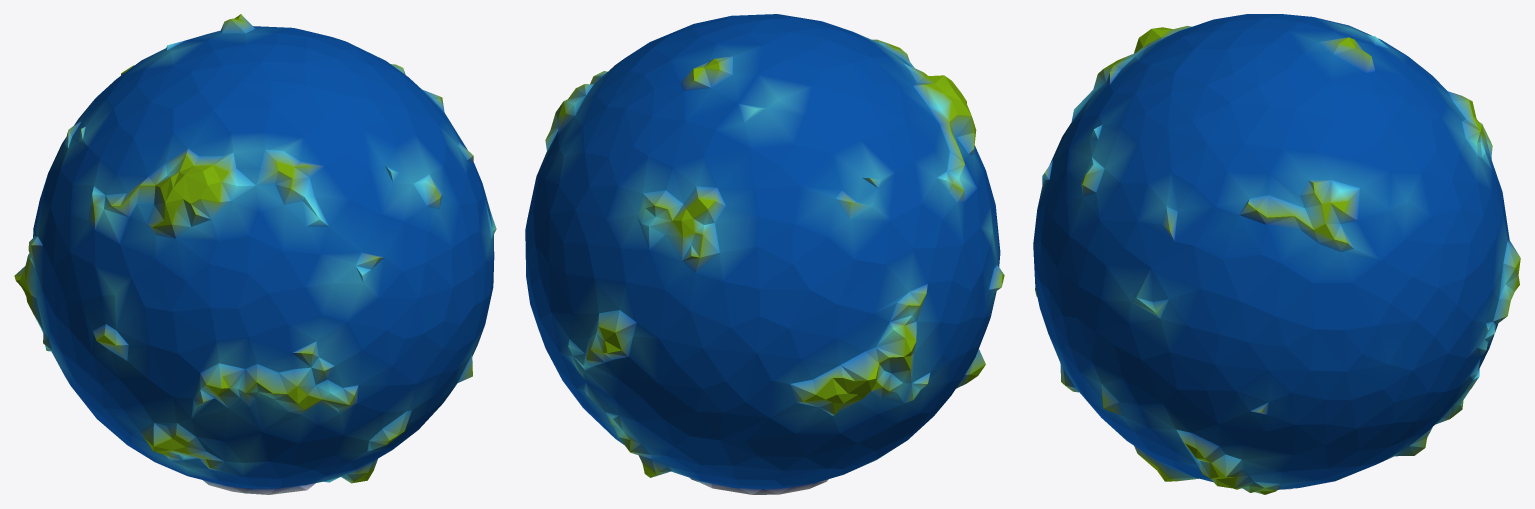
The model's file is planet_82.fbx.
3 renders of one model, left to right at view 1: azimuth 30°, elevation 25°; view 2: azimuth 150°, elevation 25°; view 3: azimuth 270°, elevation 25°, orthographic. The views are drawn at different scales.
Visible parts, largest first — view 1: file1; view 2: file1; view 3: file1.
Boxes of the visible parts, left/top/right/bottom form: file1: left=14, top=14, right=496, bottom=494; file1: left=525, top=14, right=1004, bottom=494; file1: left=1033, top=14, right=1520, bottom=494.
Size of the model in its own units: 2 by 2.03 by 2.05.
